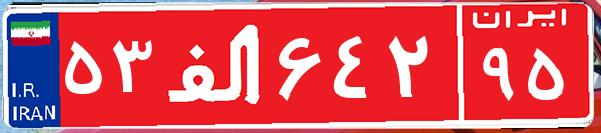2: (385, 28, 445, 110)
3: (110, 28, 158, 105)
4: (330, 28, 385, 110)
5: (57, 26, 110, 107), (525, 38, 570, 115)
6: (273, 28, 330, 110)
9: (475, 38, 525, 113)
الف: (158, 15, 273, 115)
